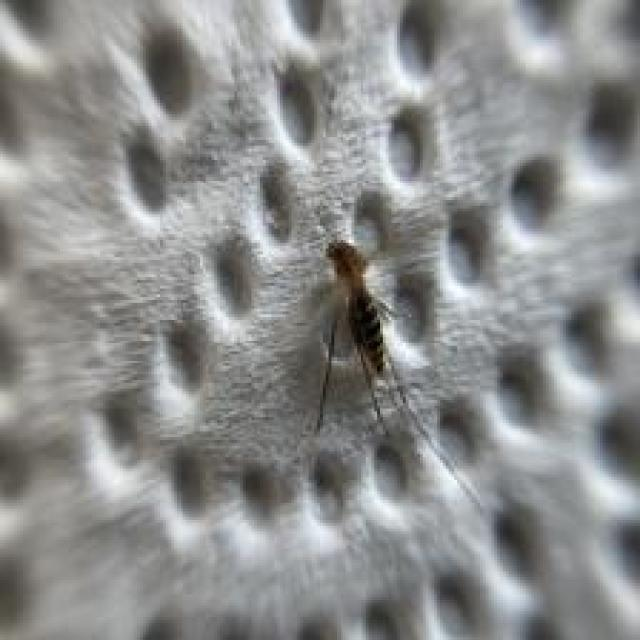Culex: (307, 235, 487, 514)
